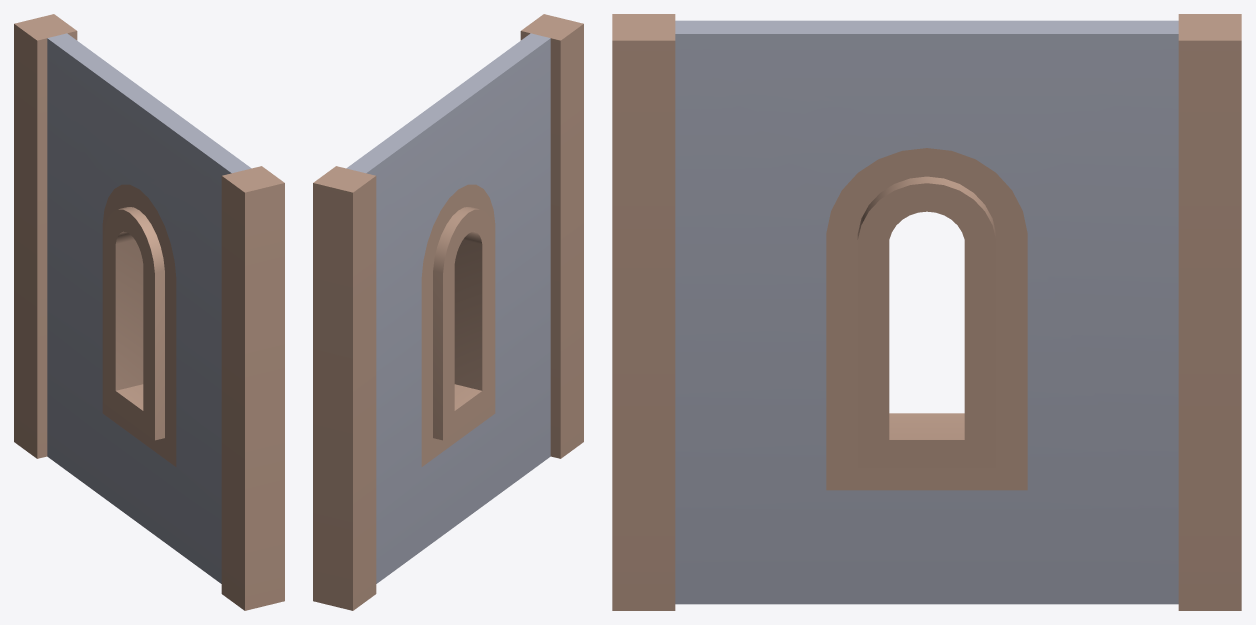
The model's file is wall-window-round.glb.
3 views of the same model, side by side, from view 1: azimuth 30°, elevation 25°; view 2: azimuth 150°, elevation 25°; view 3: azimuth 270°, elevation 25° (orthographic). The views are drawn at different scales.
Visible parts, largest first — view 1: wall-window-round; view 2: wall-window-round; view 3: wall-window-round.
Part boxes in pixels (x1,y1,x2,y2): wall-window-round: (14, 14, 284, 610); wall-window-round: (313, 14, 583, 610); wall-window-round: (612, 14, 1241, 610).
Bounding box in the file's own units: 0.1 × 1 × 1.
